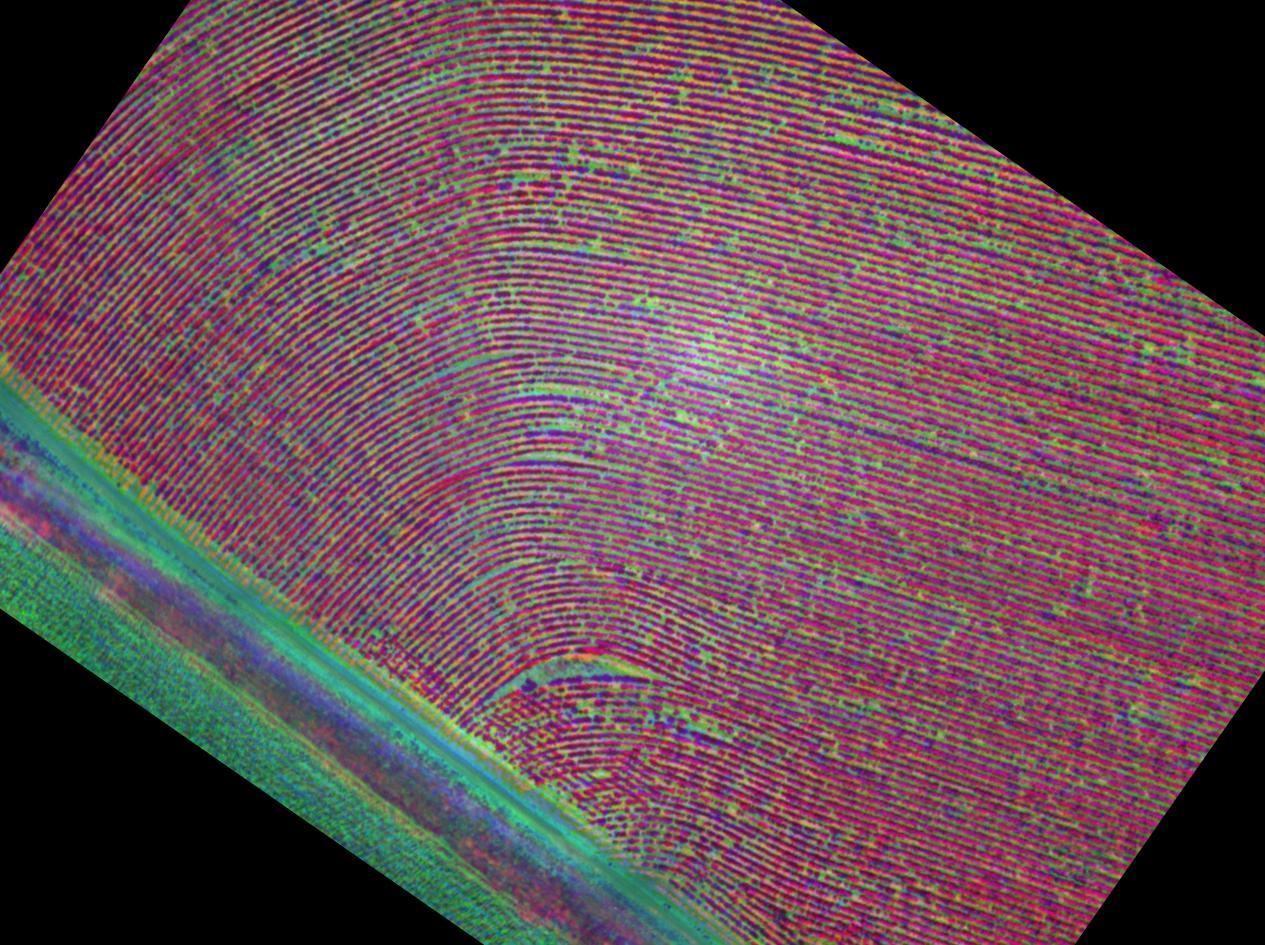dc: (558, 313, 729, 415), (793, 73, 889, 177), (228, 120, 321, 218), (516, 638, 618, 722), (336, 33, 426, 116)
